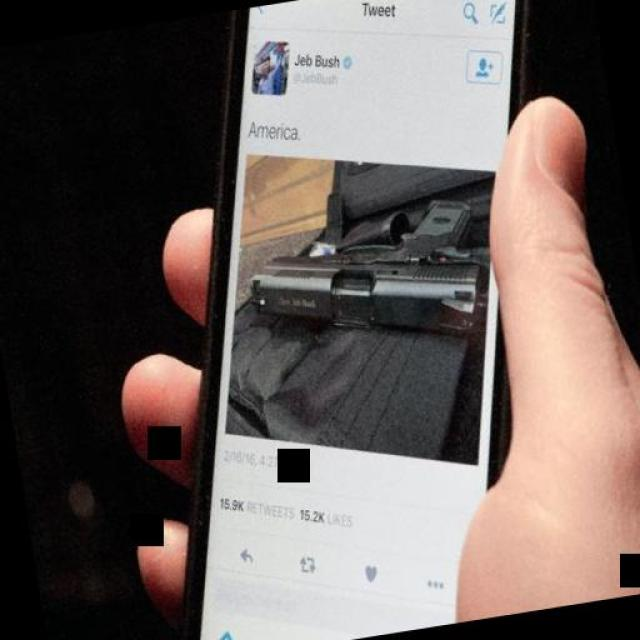gun: (234, 190, 495, 369)
